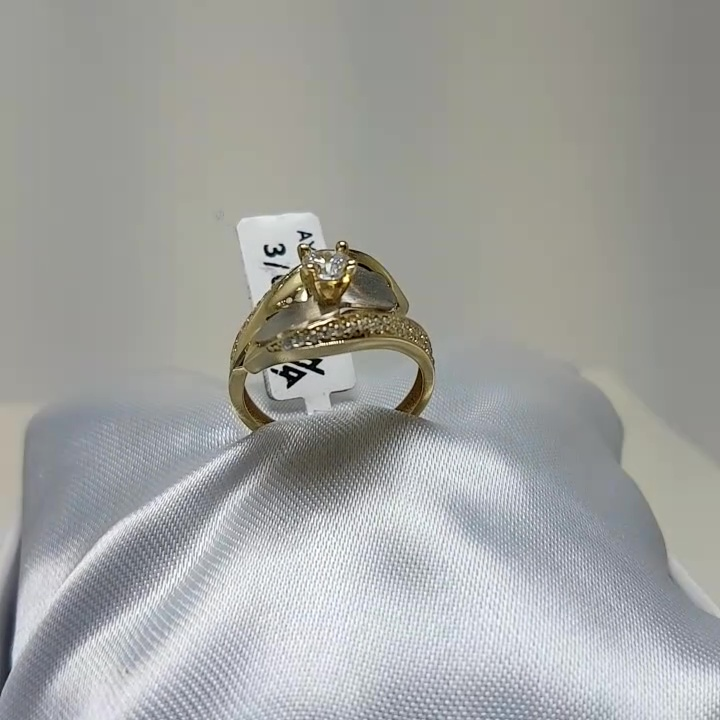Ring 6: (211, 234, 458, 464)
